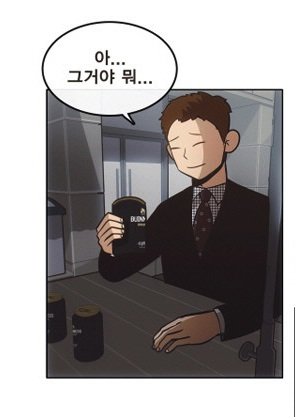beer: (109, 192, 152, 261), (68, 304, 106, 364)
can: (106, 192, 150, 262), (68, 301, 106, 366)
